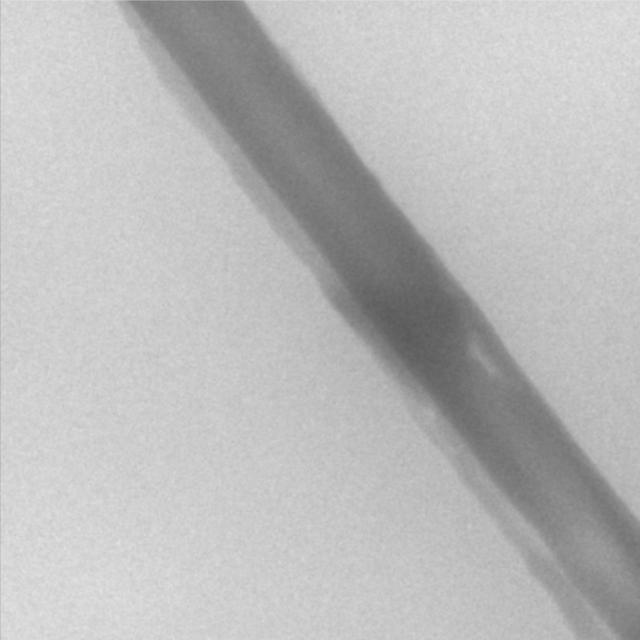unfused: (548, 511, 637, 619), (465, 329, 507, 390)
